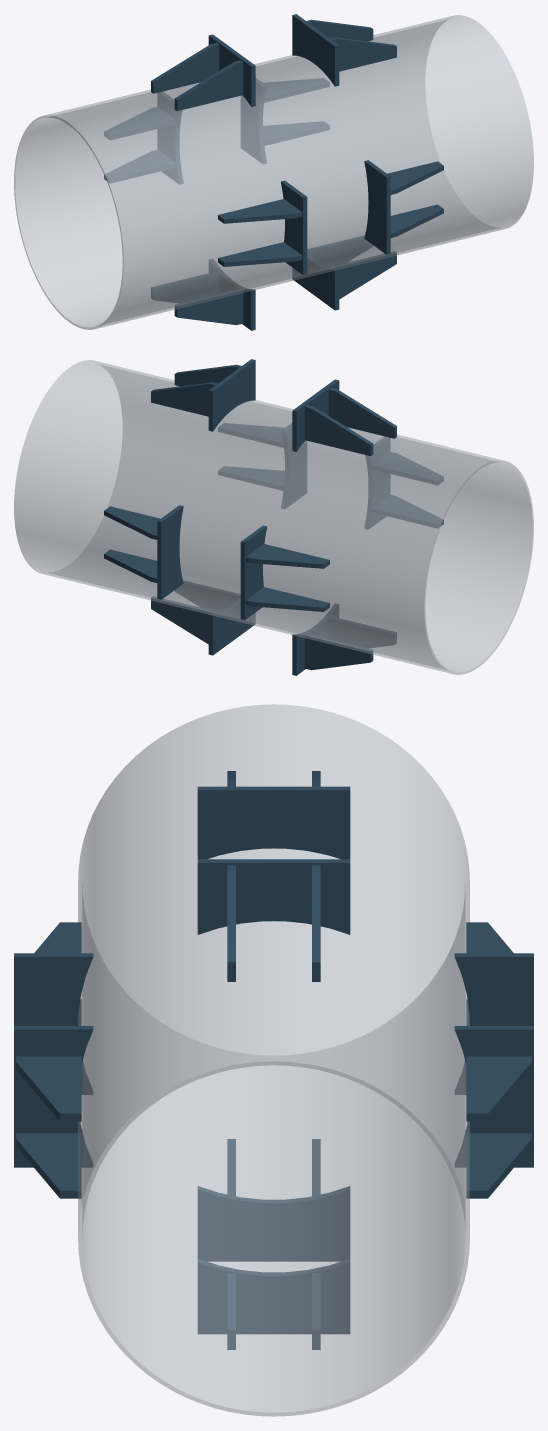
Rendered from TS-661.00.00-09-opora-dn720-ris1.glb.
The picture shows the model from 3 angles, top to bottom: view 1: azimuth 30°, elevation 25°; view 2: azimuth 150°, elevation 25°; view 3: azimuth 270°, elevation 25°; orthographic projection. The views are drawn at different scales.
Parts seen in each view (by area): view 1: truba, upor_7, upor_1, upor_6, upor_5, upor_17, upor_10, upor_13, upor_19, upor_3, upor_14, upor_18 (+13 smaller); view 2: truba, upor_19, upor_1, upor_5, upor_6, upor_18, upor_22, upor_13, upor_7, upor_2, upor_15, upor_17 (+13 smaller); view 3: truba, upor_4, upor_16, upor_1, upor_13, upor_10, upor_22, upor_7, upor_19, upor_8, upor_21, upor_9 (+5 smaller).
Boxes of the visible parts, <box> form: truba: <box>14,15,533,329</box>; upor_7: <box>364,160,390,254</box>; upor_1: <box>292,14,339,86</box>; upor_6: <box>174,60,243,111</box>; upor_5: <box>151,43,219,93</box>; upor_17: <box>174,289,243,325</box>; upor_10: <box>281,180,307,274</box>; upor_13: <box>292,253,339,310</box>; upor_19: <box>241,78,266,163</box>; upor_3: <box>330,37,396,71</box>; upor_14: <box>330,251,396,299</box>; upor_18: <box>151,271,218,303</box>; truba: <box>14,360,533,674</box>; upor_19: <box>157,505,183,599</box>; upor_1: <box>208,359,255,431</box>; upor_5: <box>304,405,373,456</box>; upor_6: <box>328,388,396,438</box>; upor_18: <box>304,634,373,670</box>; upor_22: <box>240,525,266,619</box>; upor_13: <box>208,598,255,655</box>; upor_7: <box>281,423,306,508</box>; upor_2: <box>151,382,217,416</box>; upor_15: <box>151,596,217,644</box>; upor_17: <box>329,616,396,648</box>; truba: <box>78,704,469,1416</box>; upor_4: <box>197,786,350,859</box>; upor_16: <box>197,1186,350,1261</box>; upor_1: <box>197,859,350,934</box>; upor_13: <box>197,1259,350,1334</box>; upor_10: <box>14,953,93,1094</box>; upor_22: <box>454,953,533,1094</box>; upor_7: <box>14,1026,93,1167</box>; upor_19: <box>454,1026,533,1167</box>; upor_8: <box>16,1056,81,1121</box>; upor_21: <box>466,1056,531,1121</box>; upor_9: <box>16,1133,81,1198</box>.
Size of the model in its own units: 1552 by 955 by 955.
